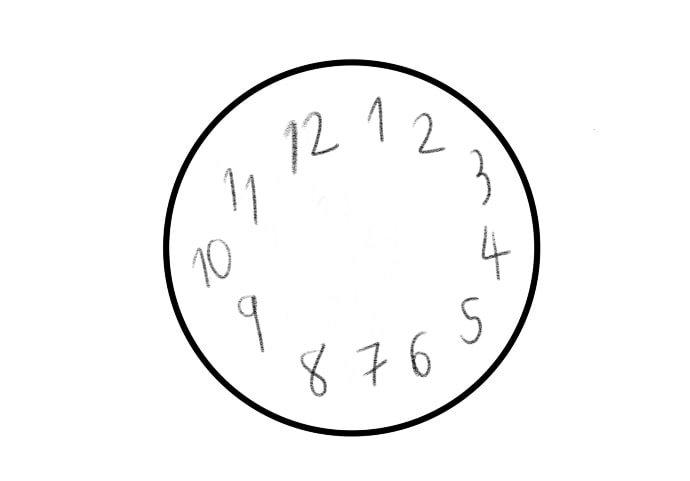eight: (296, 341, 330, 402)
eleven: (222, 164, 262, 230)
five: (458, 292, 484, 350)
four: (479, 224, 511, 279)
nine: (237, 285, 269, 359)
one: (367, 94, 389, 149)
seven: (350, 338, 388, 388)
six: (410, 325, 432, 381)
ten: (187, 236, 231, 291)
three: (468, 147, 498, 208)
twelve: (283, 110, 339, 174)
two: (412, 109, 447, 157)
